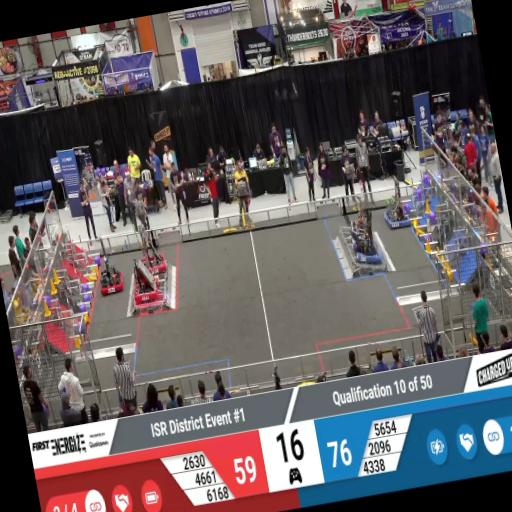robot: (378, 184, 412, 232), (344, 204, 376, 248), (134, 237, 168, 277), (352, 229, 384, 270), (128, 262, 160, 302), (95, 254, 125, 296)
